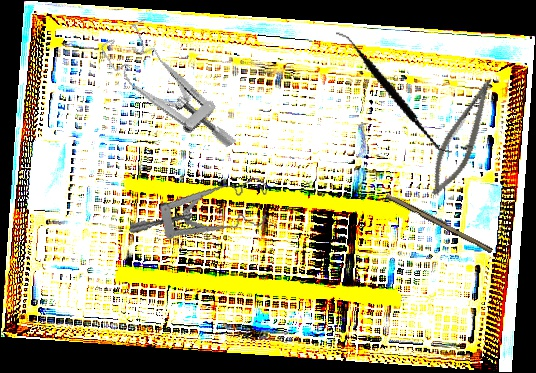Micro Scissor: (422, 70, 501, 202)
Scalpel Handle: (384, 191, 495, 254)
Spatula Surgical: (311, 30, 477, 154)
Speculum: (98, 10, 238, 177), (128, 156, 274, 258)
